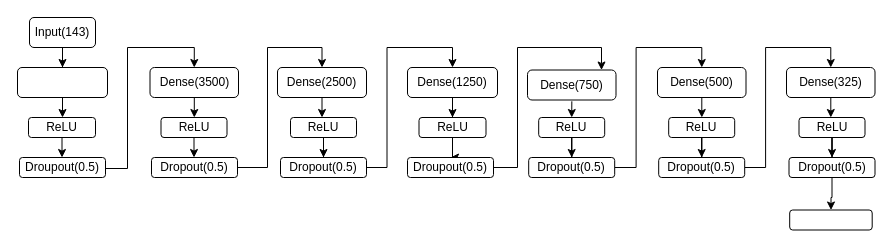
This 893x248 diagram has some shape labels left out. The shapes that lost their labels are listed below. From the top down, each one's centre as x and y in pixels, then its label:
the point at 62,82: Dense(5000)
the point at 830,219: Output(4)
